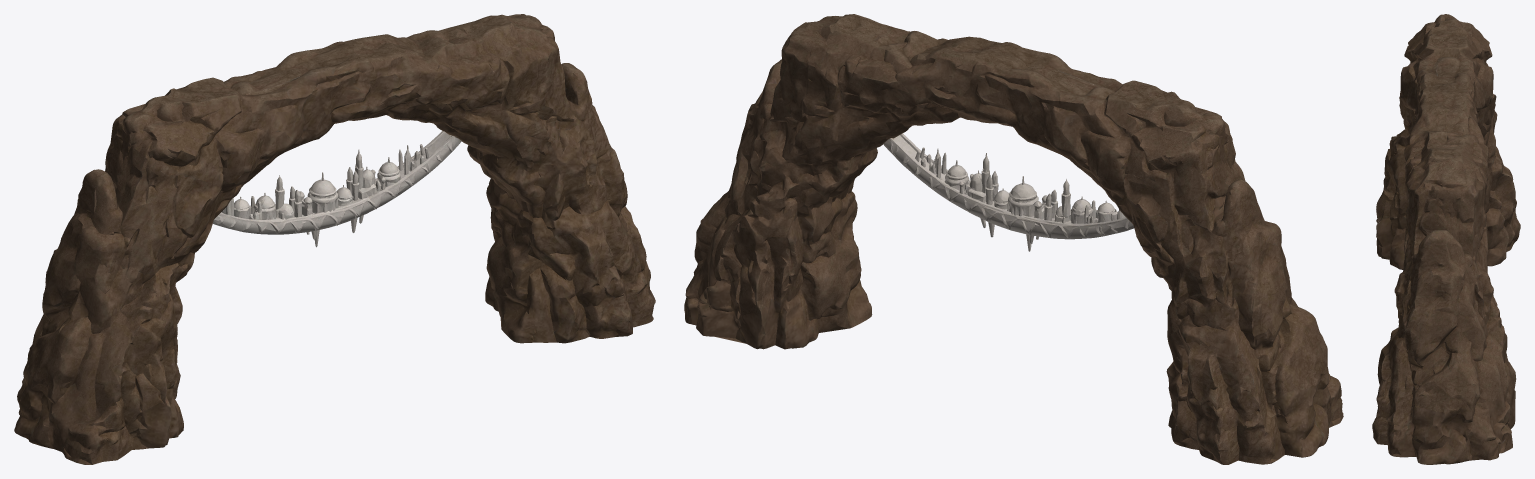
The model's file is catobridge.glb.
The picture shows the model from 3 angles, left to right: view 1: azimuth 30°, elevation 25°; view 2: azimuth 150°, elevation 25°; view 3: azimuth 270°, elevation 25°; orthographic projection. The views are drawn at different scales.
Parts seen in each view (by area): view 1: catobridge-centred; view 2: catobridge-centred; view 3: catobridge-centred.
Part boxes in pixels (x1=…): catobridge-centred: x1=14, y1=14, x2=655, y2=464; catobridge-centred: x1=684, y1=14, x2=1343, y2=464; catobridge-centred: x1=1372, y1=14, x2=1520, y2=464.
Bounding box in the file's own units: 170 × 82.5 × 43.11.
1 material, 1 textured.
